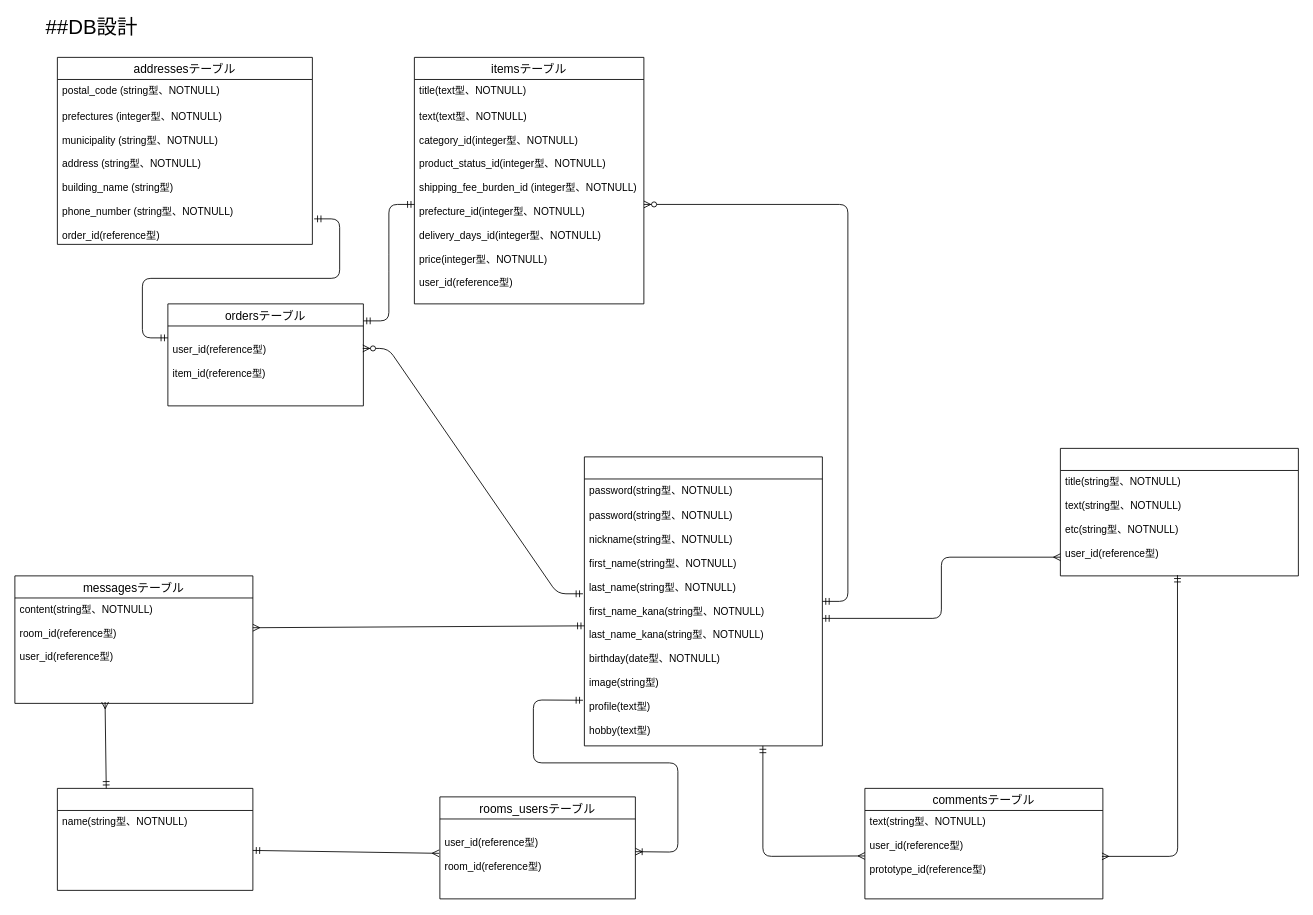
This 1313x915 diagram has some shape labels left out. Each missing label, with the box of its shape:
prototypesテーブル: (1060, 448, 1298, 576)
roomsテーブル: (57, 788, 253, 890)
usersテーブル: (584, 456, 822, 746)
